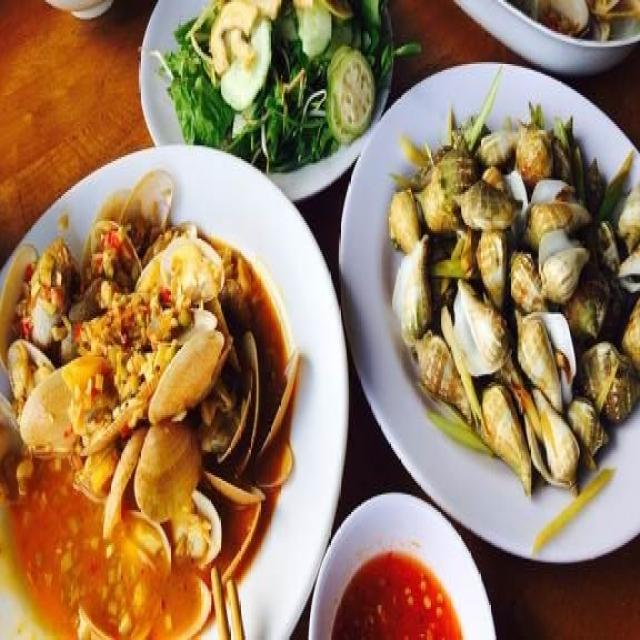ngheu hap: (0, 161, 297, 591)
oc hap: (388, 87, 640, 480)
